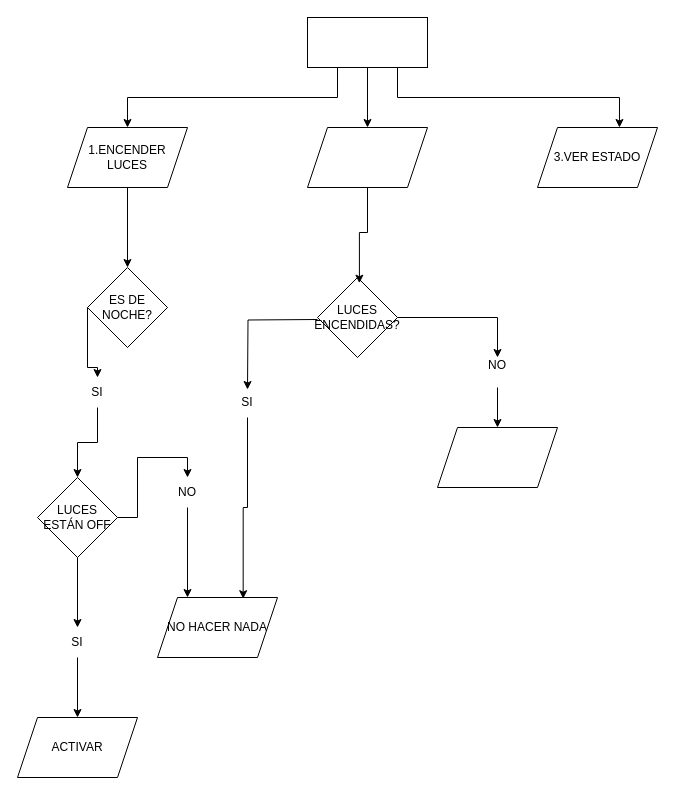
The diagram is 675 pixels wide and 795 high, and some of its shapes have lost their labels. Here are the shapes that lost their labels. From the top down, the box of each, then its label:
(306, 16, 428, 68): MENÚ
(306, 126, 428, 188): 2.ACTIVAR CALEFACCIÓN
(436, 426, 558, 488): ENCENDER CALEFACCIÓN
